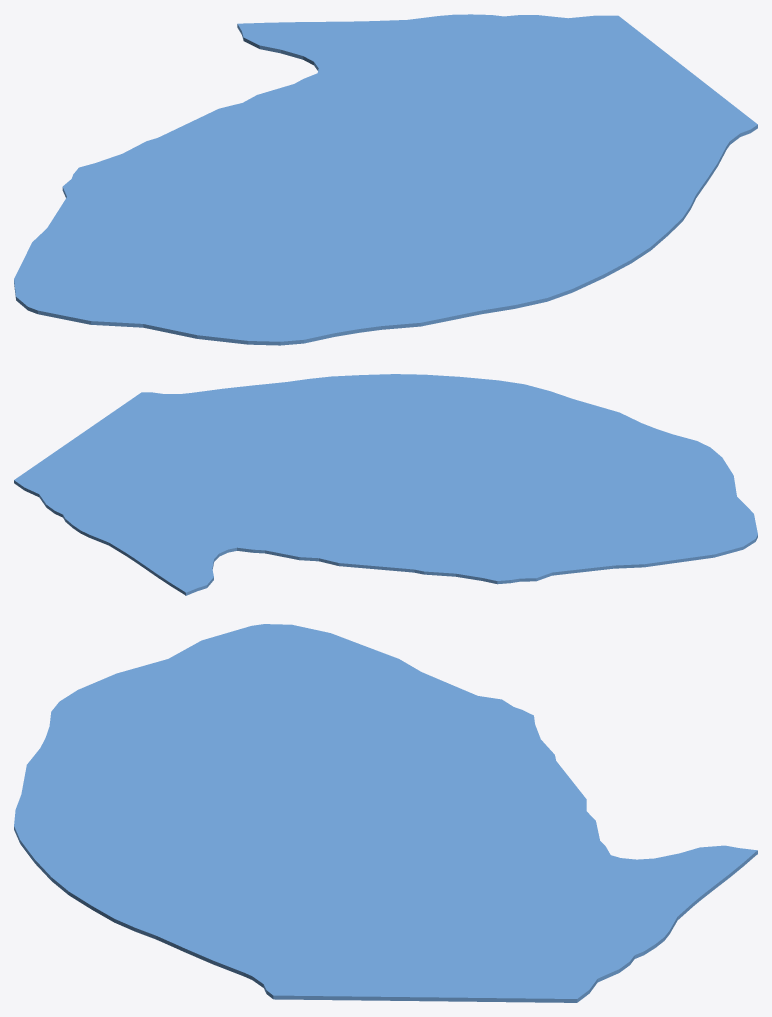
The picture shows the model from 3 angles, top to bottom: view 1: azimuth 30°, elevation 25°; view 2: azimuth 150°, elevation 25°; view 3: azimuth 270°, elevation 25°; orthographic projection. The views are drawn at different scales.
Bounding box in the file's own units: 630 × 3.05 × 528.
